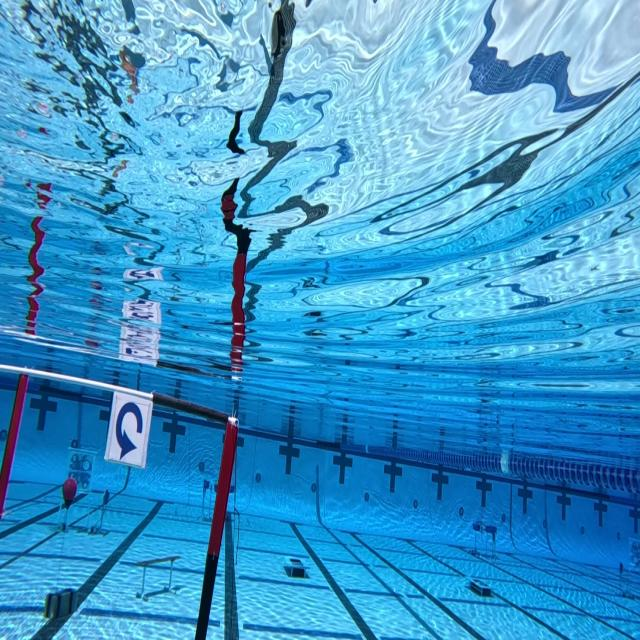blue_side: (103, 389, 154, 469)
